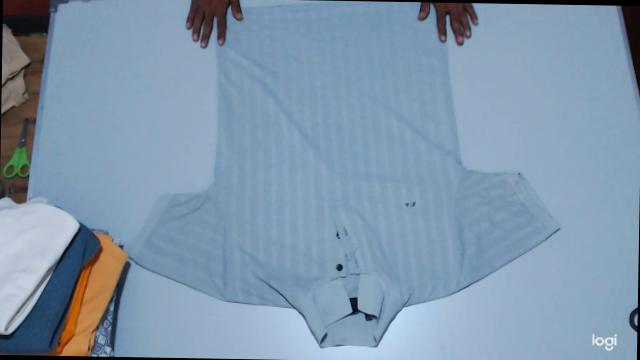new-garment: (129, 0, 558, 346)
